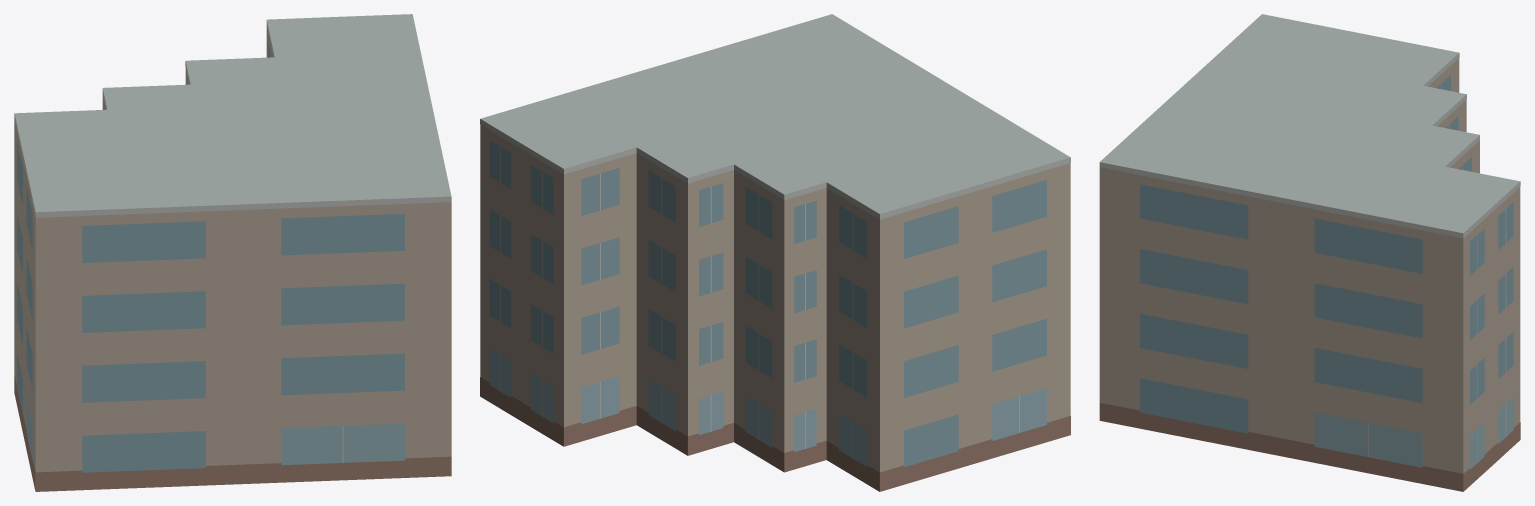
The model's file is residential-41942f79-4ccf-4f43-b4cc-2088ff409ce0.glb.
The picture shows the model from 3 angles, left to right: view 1: azimuth 30°, elevation 25°; view 2: azimuth 150°, elevation 25°; view 3: azimuth 270°, elevation 25°; orthographic projection. The views are drawn at different scales.
Parts seen in each view (by area): view 1: residential-41942f79-4ccf-4f43-b4cc-2088ff409ce0.tmp; view 2: residential-41942f79-4ccf-4f43-b4cc-2088ff409ce0.tmp; view 3: residential-41942f79-4ccf-4f43-b4cc-2088ff409ce0.tmp.
Boxes of the visible parts, <box> form: residential-41942f79-4ccf-4f43-b4cc-2088ff409ce0.tmp: <box>14,14,451,491</box>; residential-41942f79-4ccf-4f43-b4cc-2088ff409ce0.tmp: <box>480,14,1070,491</box>; residential-41942f79-4ccf-4f43-b4cc-2088ff409ce0.tmp: <box>1099,14,1520,491</box>.
Size of the model in its own units: 22.19 by 12.2 by 18.
